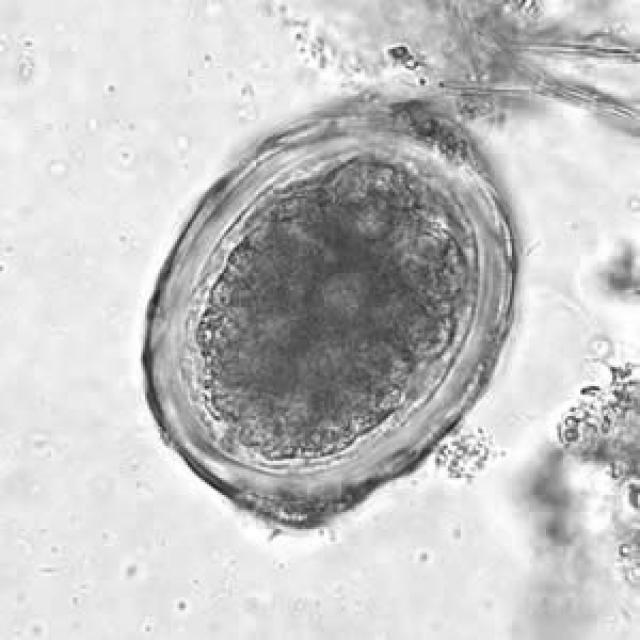Ascaris Lumbricoides: (129, 92, 522, 540)
